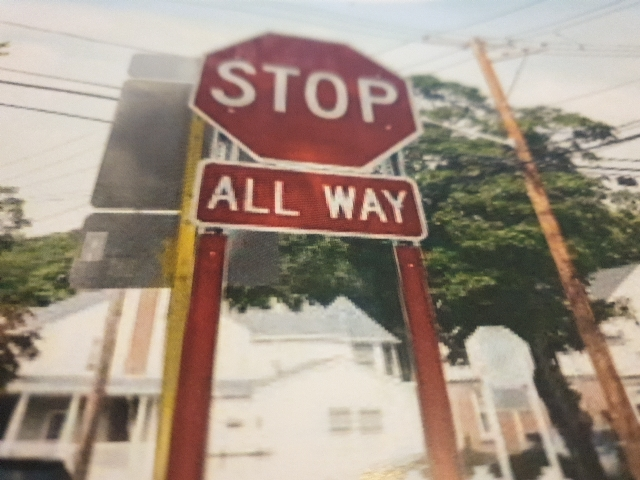stop: (207, 38, 395, 156)
